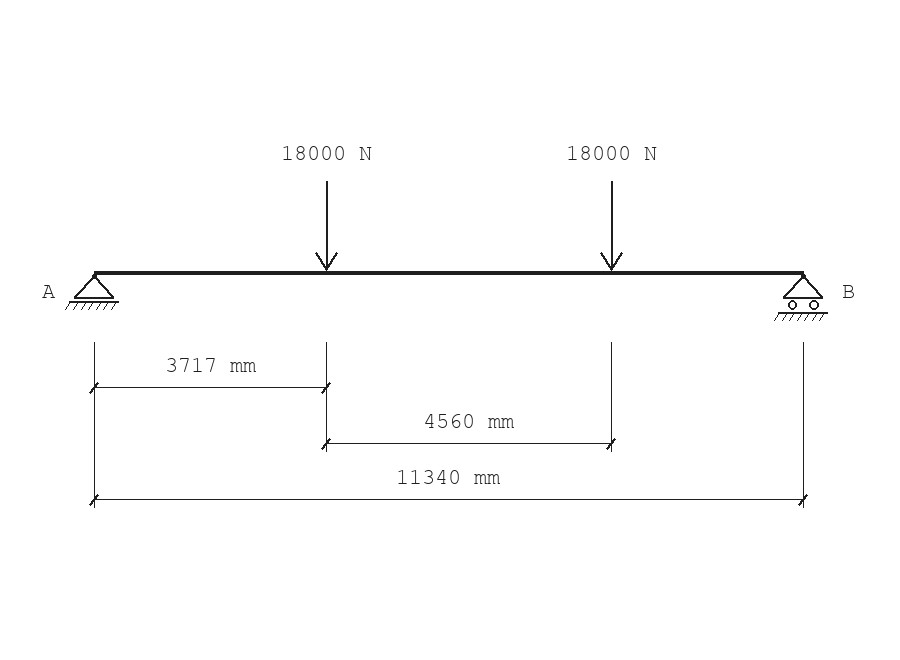pin_support: (65, 274, 119, 310)
point_load: (315, 181, 338, 271), (600, 181, 623, 271)
roller_support: (774, 274, 828, 321)
